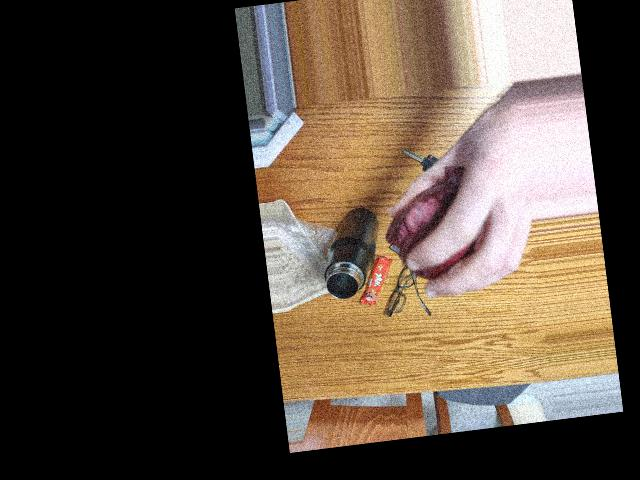onion: (389, 191, 477, 287)
